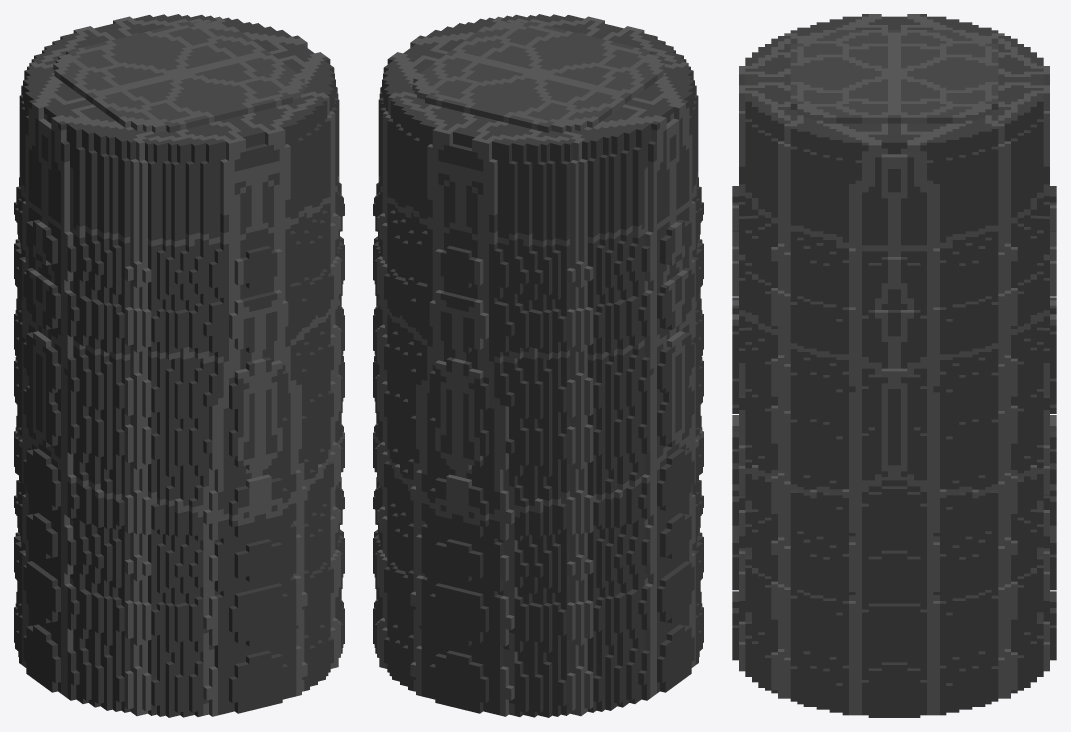
Rendered from колона ( короче блок окружонный всеми.obj.
3 renders of one model, left to right at view 1: azimuth 30°, elevation 25°; view 2: azimuth 150°, elevation 25°; view 3: azimuth 270°, elevation 25°, orthographic.
Size of the model in its own units: 5 by 9.8 by 5.
1 material, 1 textured.
